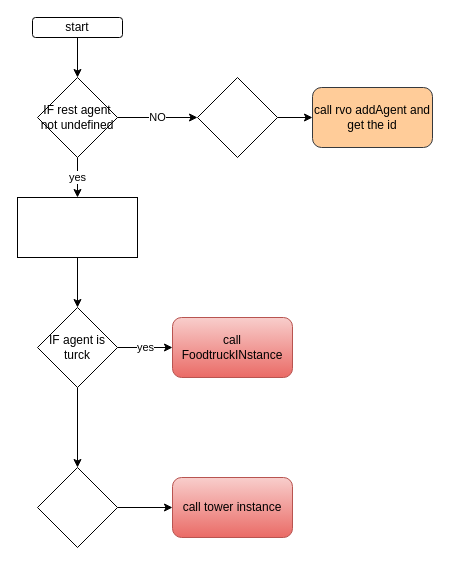
Some shapes in this 450 by 565 pixel diagram are drawn without their labels. The box of each missing label's shape, as (x1, y1, x2, y2) in pixels:
ELSE: (196, 76, 278, 158)
ELSE IF agent is tower: (36, 466, 118, 548)
get the agent id: (16, 196, 138, 258)
